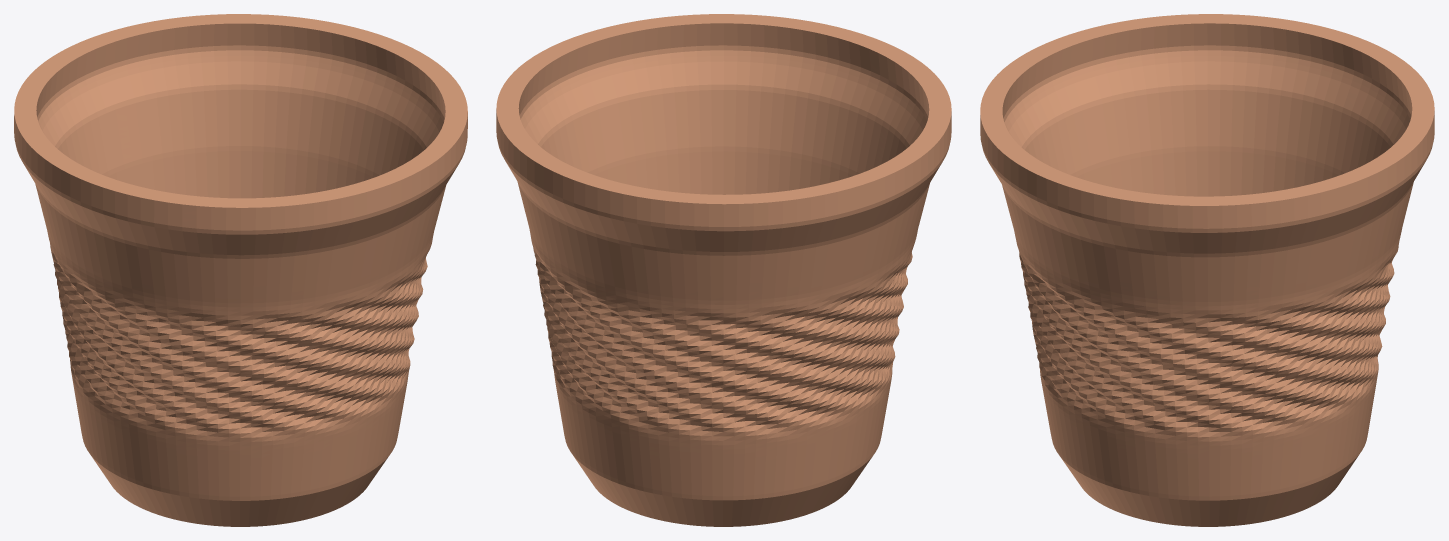
The model's file is Pot_07_Etched_Chevron.glb.
3 renders of one model, left to right at view 1: azimuth 30°, elevation 25°; view 2: azimuth 150°, elevation 25°; view 3: azimuth 270°, elevation 25°, orthographic.
Parts seen in each view (by area): view 1: Pot_07_Etched_Chevron; view 2: Pot_07_Etched_Chevron; view 3: Pot_07_Etched_Chevron.
Part boxes in pixels (<box>): Pot_07_Etched_Chevron: <box>14,14,467,526</box>; Pot_07_Etched_Chevron: <box>496,14,951,526</box>; Pot_07_Etched_Chevron: <box>980,14,1434,526</box>.
Bounding box in the file's own units: 0.224 × 0.1971 × 0.2241.
